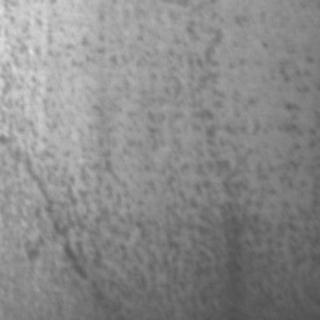pitted_surface: (12, 19, 310, 313)
